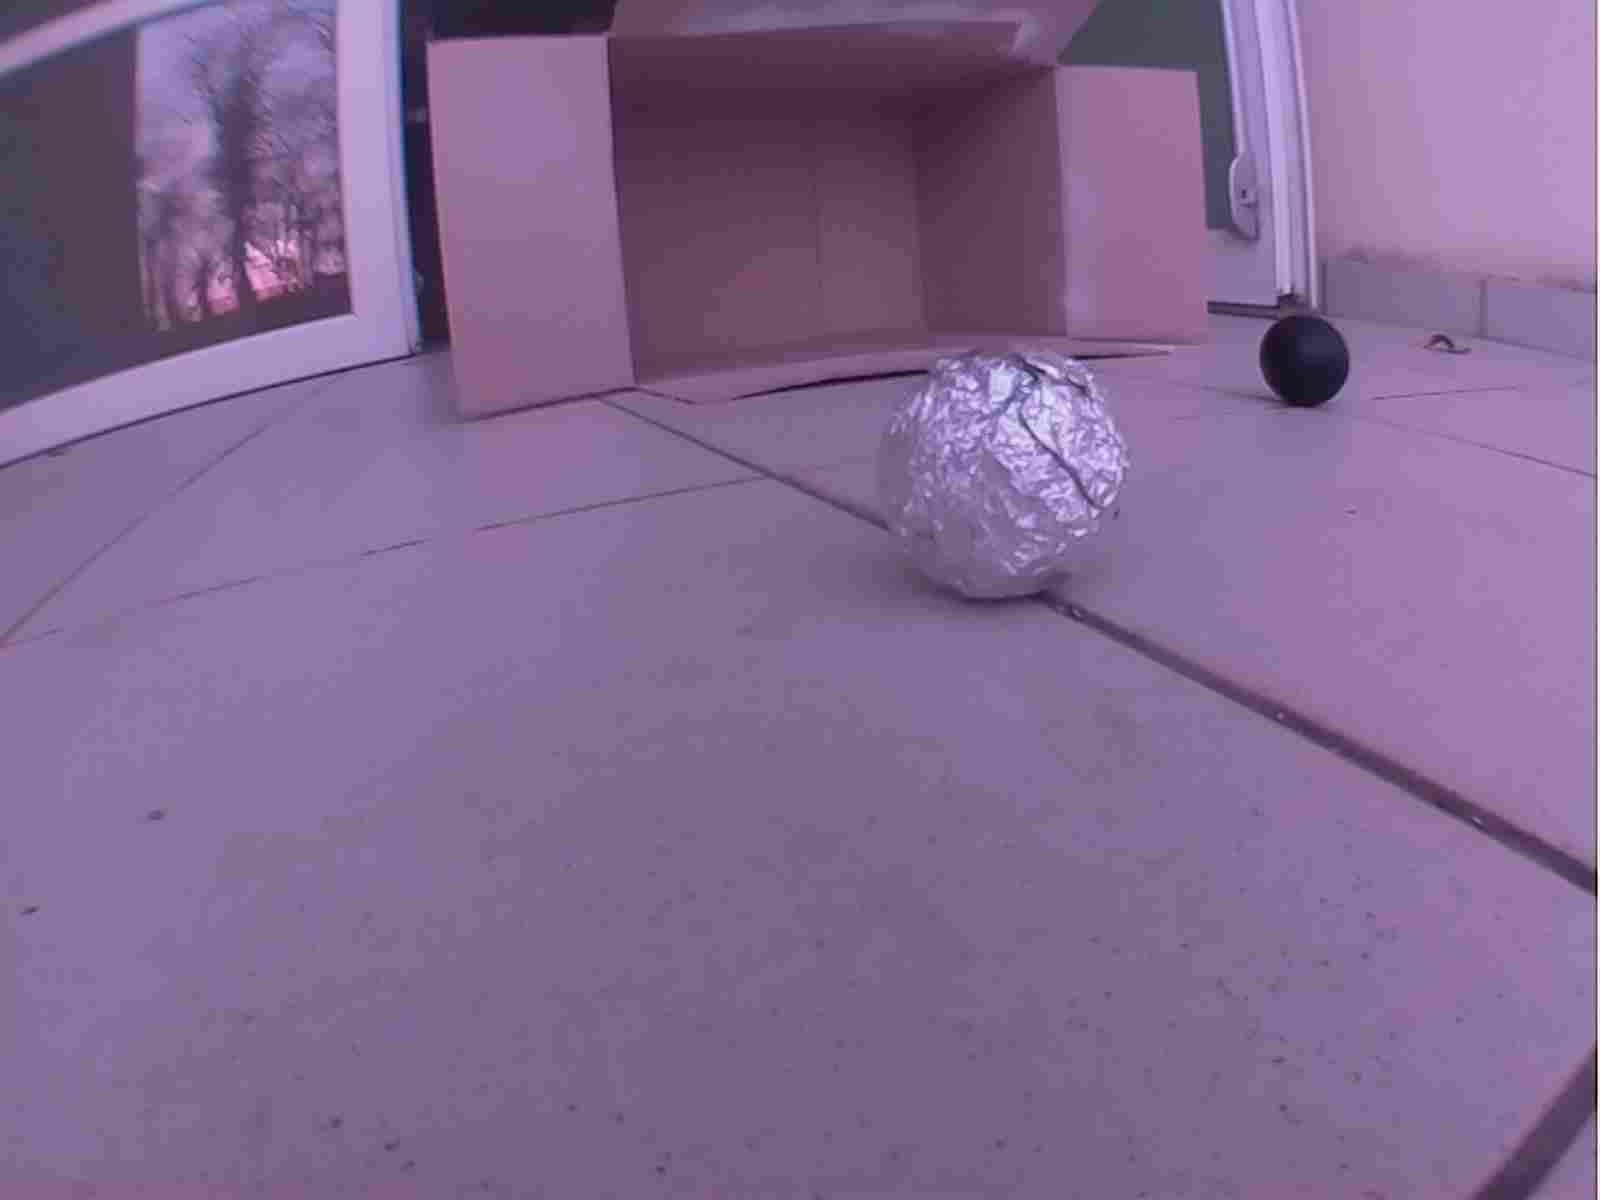bianca: (879, 344, 1130, 603)
nera: (1255, 315, 1351, 407)
